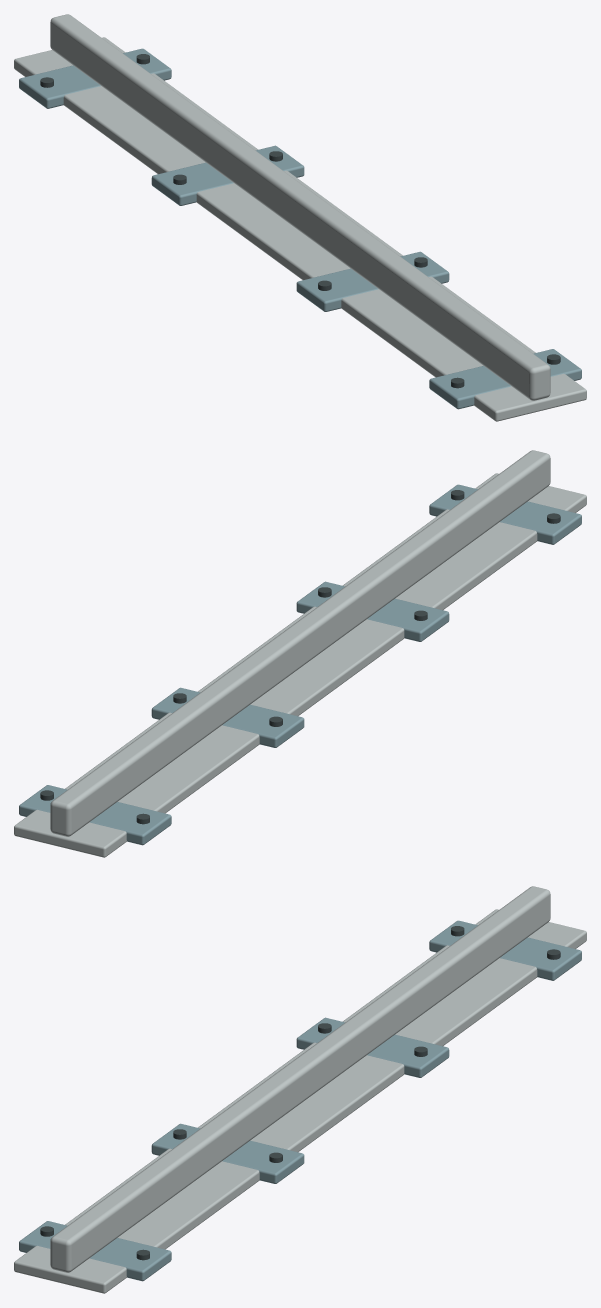
Rendered from abandoned-tidal-model-testing-hall-gantry-rail-straigh-ecbe0b7f__32347.glb.
3 views of the same model, one above another, from view 1: azimuth 30°, elevation 25°; view 2: azimuth 150°, elevation 25°; view 3: azimuth 330°, elevation 25° (orthographic).
Visible parts, largest first — view 1: gantry-rail-straight; view 2: gantry-rail-straight; view 3: gantry-rail-straight.
Boxes of the visible parts, x1,y1,x2,y2 form: gantry-rail-straight: (14, 14, 586, 421); gantry-rail-straight: (14, 450, 586, 857); gantry-rail-straight: (14, 886, 586, 1293).
Size of the model in its own units: 0.2999 by 0.1001 by 2.
